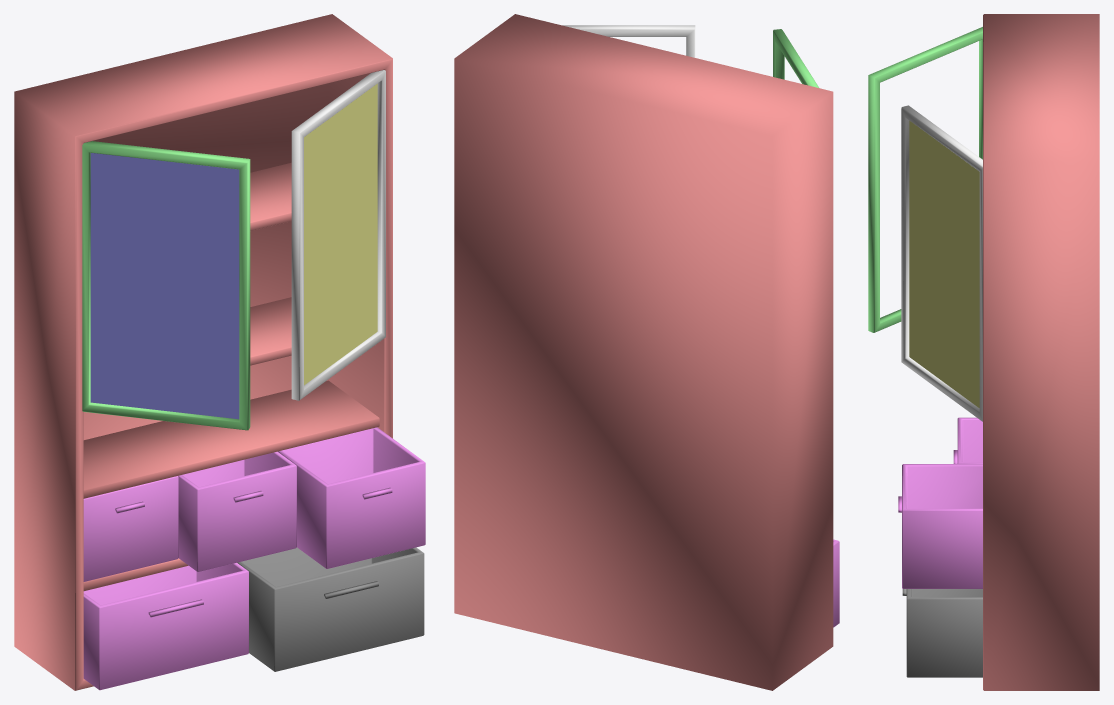
The model's file is shelf2.gltf.
3 views of the same model, side by side, from view 1: azimuth 30°, elevation 25°; view 2: azimuth 150°, elevation 25°; view 3: azimuth 270°, elevation 25° (orthographic). The views are drawn at different scales.
Visible parts, largest first — view 1: shelf2; view 2: shelf2; view 3: shelf2.
Part boxes in pixels (x1,y1,x2,y2): shelf2: (14, 14, 425, 690); shelf2: (454, 14, 839, 690); shelf2: (868, 14, 1099, 690).
Size of the model in its own units: 1.8 by 3 by 1.19.
